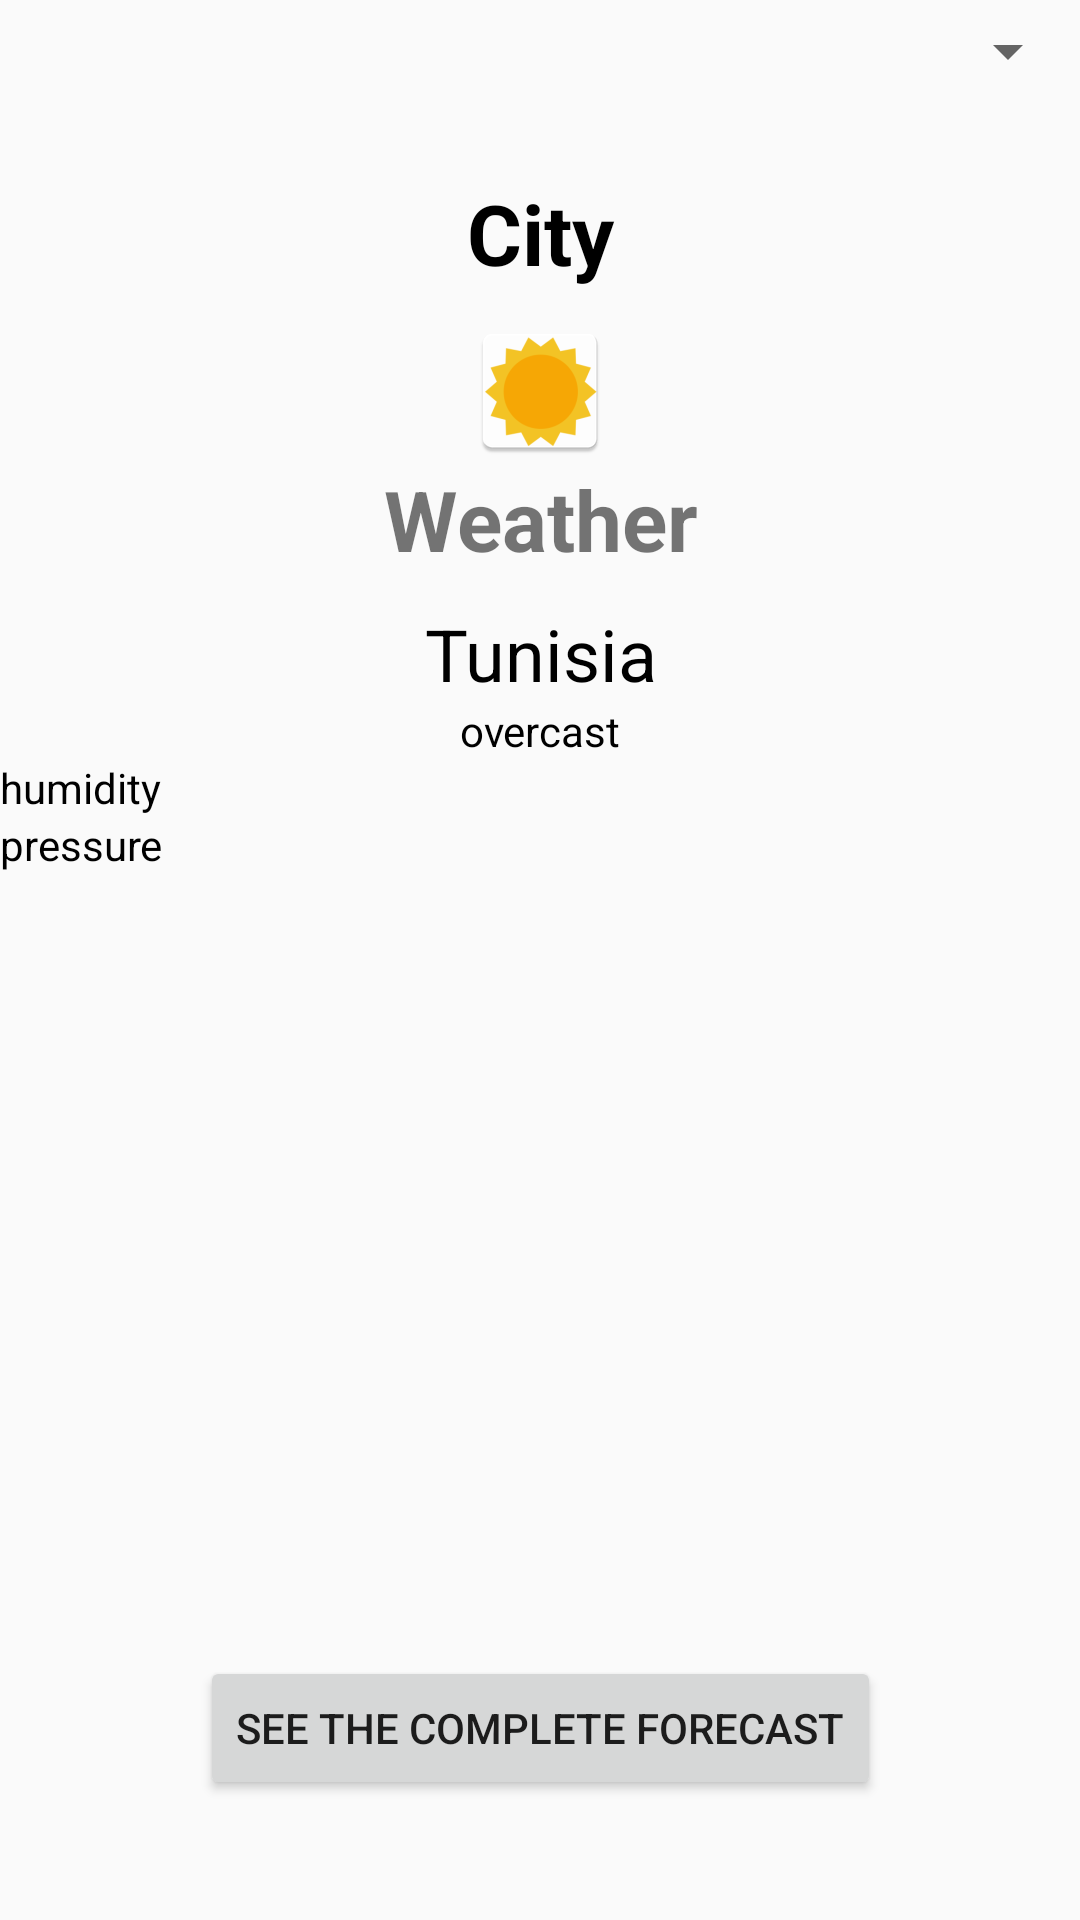

Where icons sit on this 1080 × 1920 app screen, as (x1, y1, x2, y2):
sun: (483, 337, 598, 452)
